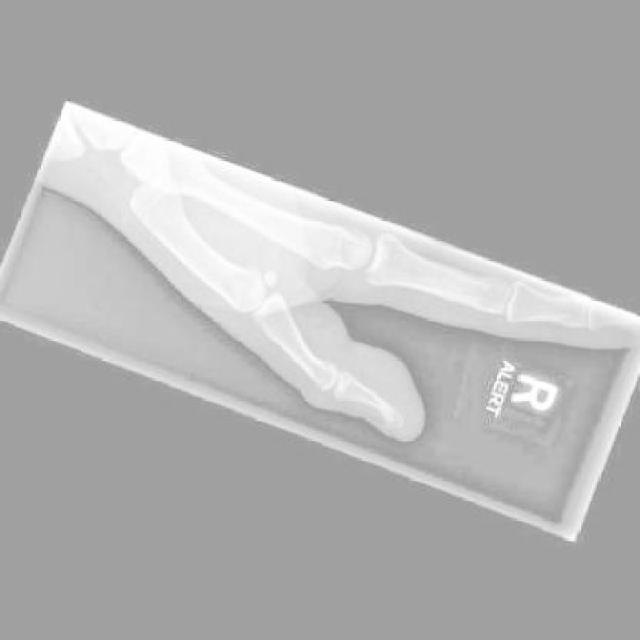Fracture: (373, 400, 410, 433)
